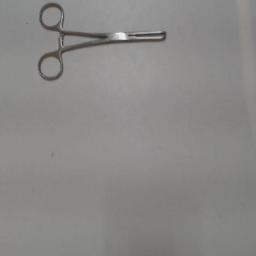Allis Tissue Forceps: (34, 2, 176, 88)
